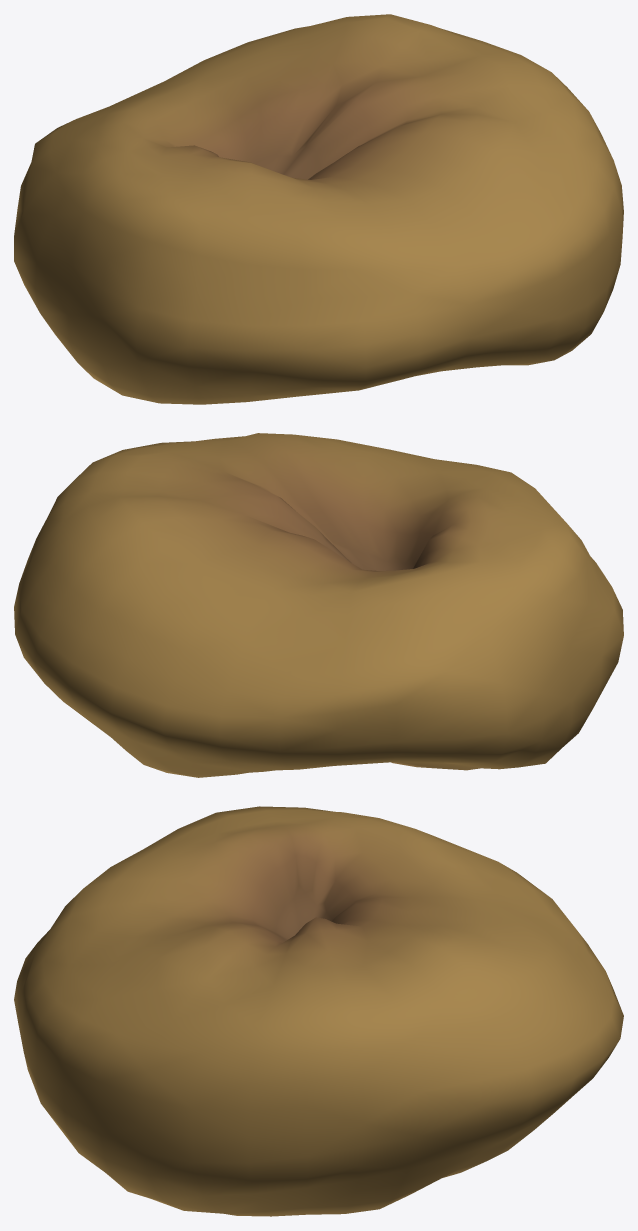
File: microscopic-cells-skin-cell_v2.glb
The picture shows the model from 3 angles, top to bottom: view 1: azimuth 30°, elevation 25°; view 2: azimuth 150°, elevation 25°; view 3: azimuth 270°, elevation 25°; orthographic projection. The views are drawn at different scales.
Visible parts, largest first — view 1: Skin Cell_v2; view 2: Skin Cell_v2; view 3: Skin Cell_v2.
Part boxes in pixels (<box>): Skin Cell_v2: <box>14,14,623,404</box>; Skin Cell_v2: <box>14,433,623,777</box>; Skin Cell_v2: <box>14,806,623,1216</box>.
Bounding box in the file's own units: 0.2944 × 0.1375 × 0.3.
